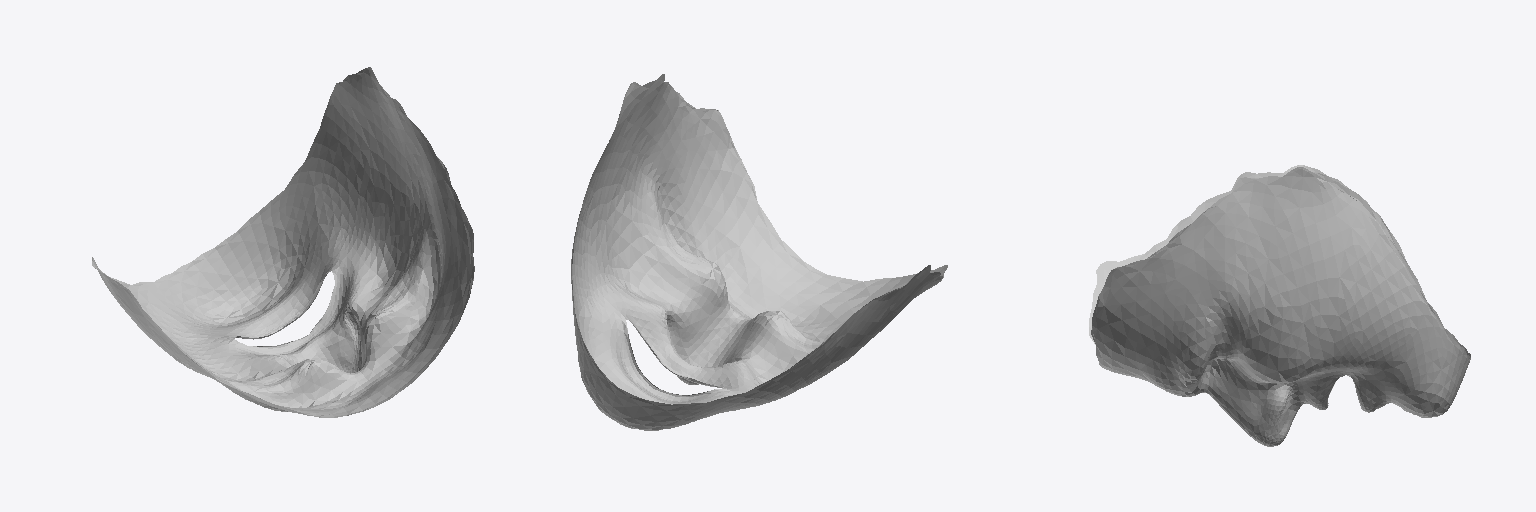
File: face_gab_sfm19.obj
The picture shows the model from 3 angles: view 1: azimuth 30°, elevation 25°; view 2: azimuth 150°, elevation 25°; view 3: azimuth 270°, elevation 25°; orthographic projection.
Bounding box in the file's own units: 164 × 155 × 179.